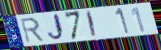1: (114, 7, 131, 35), (131, 6, 146, 33)
7: (64, 10, 83, 42)
I: (86, 10, 98, 39)
J: (46, 12, 66, 43)
R: (19, 17, 46, 44)
